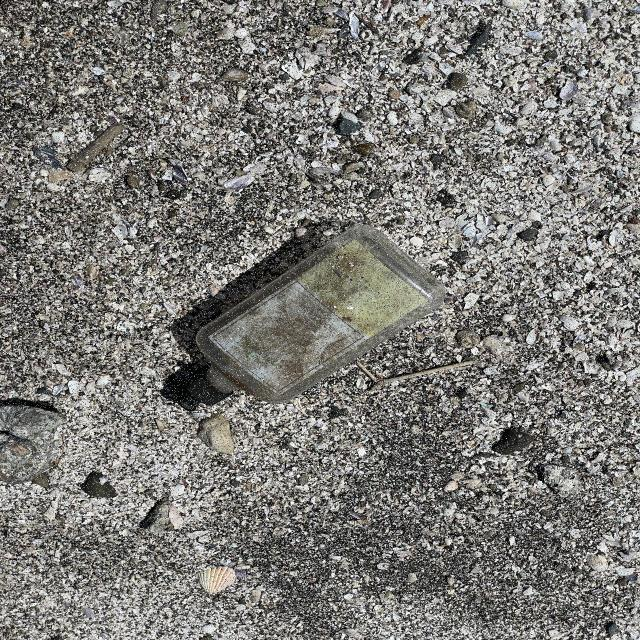plastic_waste: (176, 225, 447, 413)
